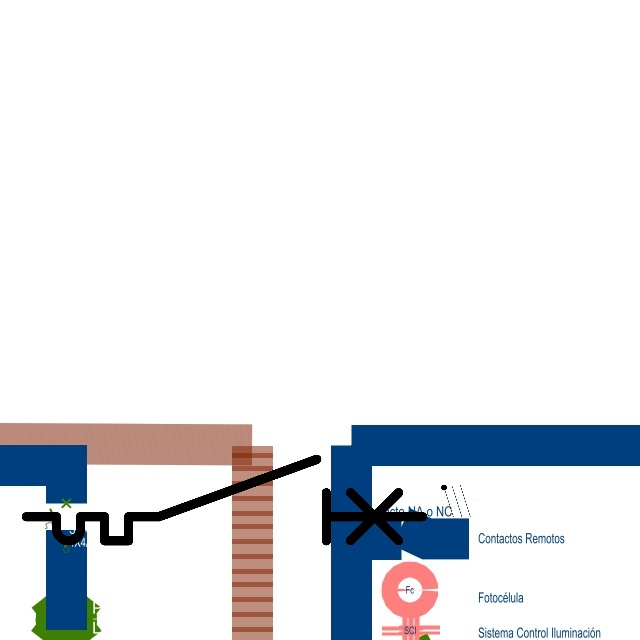interruptor_termomagnetico: (16, 449, 432, 551)
